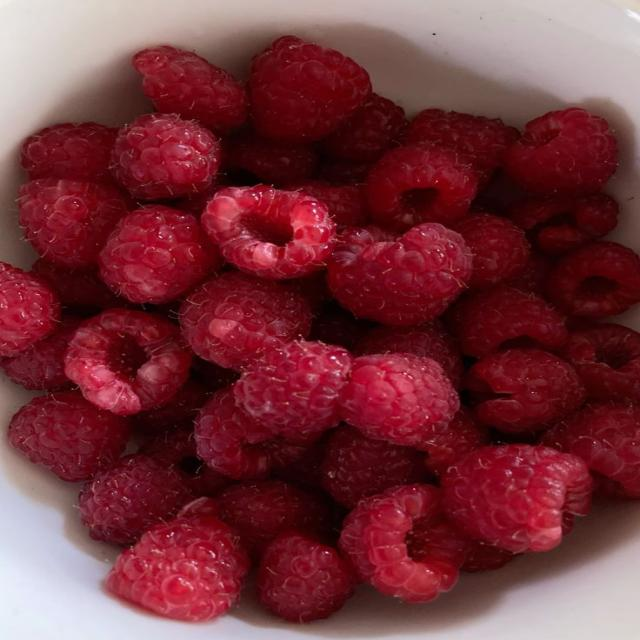raspberry: (442, 445, 592, 552), (107, 517, 250, 621), (327, 224, 472, 325), (340, 485, 464, 602), (66, 309, 191, 414), (248, 36, 371, 142), (180, 272, 311, 369), (201, 186, 335, 279), (100, 205, 221, 304), (234, 341, 353, 441), (340, 354, 459, 448), (8, 391, 129, 481), (195, 387, 308, 479), (80, 455, 191, 545), (466, 350, 586, 433), (19, 178, 129, 268), (505, 107, 617, 195), (133, 46, 247, 132), (366, 147, 478, 230), (112, 114, 219, 200), (542, 403, 639, 497), (258, 532, 355, 622), (321, 426, 425, 508), (450, 286, 567, 357), (219, 481, 328, 557), (407, 109, 519, 178), (355, 320, 463, 387), (194, 388, 271, 479), (547, 242, 639, 317), (508, 194, 619, 253), (138, 426, 230, 496), (559, 321, 639, 401), (0, 316, 81, 391), (320, 94, 407, 161), (454, 214, 529, 289), (21, 122, 117, 180), (0, 263, 59, 356), (32, 259, 128, 314), (223, 132, 317, 185), (425, 407, 489, 477), (134, 376, 210, 433), (287, 181, 367, 227), (406, 509, 468, 568), (273, 432, 330, 487), (310, 303, 371, 351), (172, 173, 227, 219), (262, 436, 323, 472), (283, 271, 331, 314), (509, 251, 553, 296), (461, 539, 514, 572), (193, 357, 239, 392), (320, 159, 372, 185), (592, 472, 636, 501), (177, 497, 219, 518), (469, 193, 505, 215)
